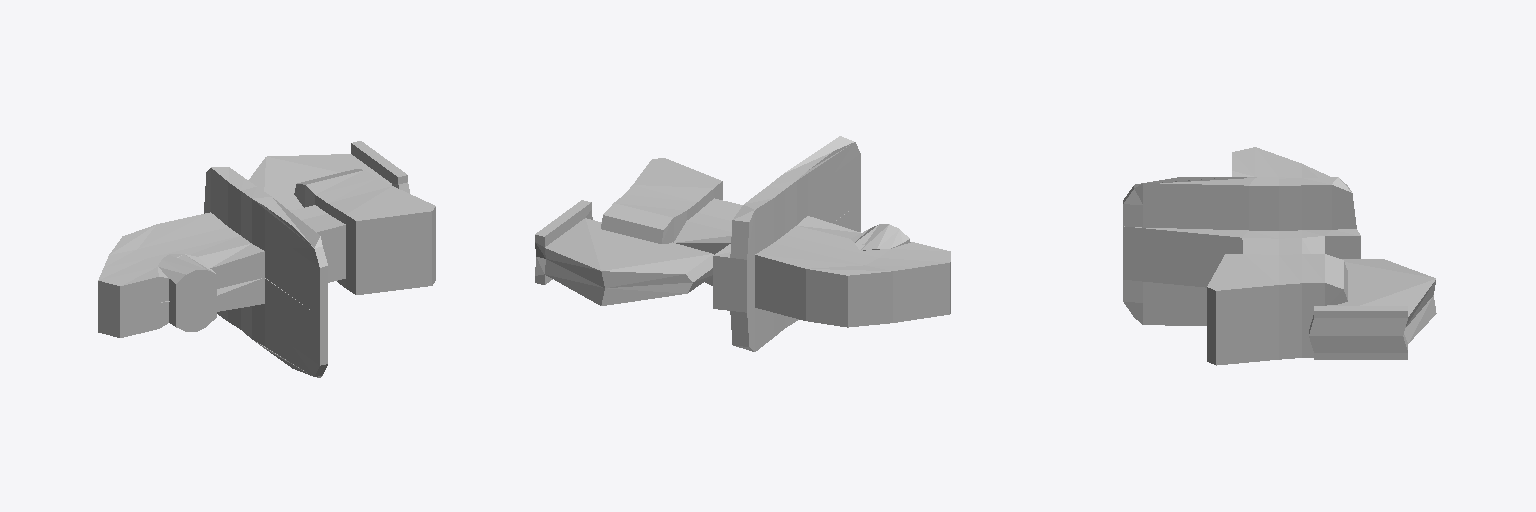
The model's file is thruster.obj.
3 views of the same model, side by side, from view 1: azimuth 30°, elevation 25°; view 2: azimuth 150°, elevation 25°; view 3: azimuth 270°, elevation 25° (orthographic).
Parts seen in each view (by area): view 1: Cabin_Plane.001_Windows.004; view 2: Cabin_Plane.001_Windows.004; view 3: Cabin_Plane.001_Windows.004.
Boxes of the visible parts, box(x1,y1,x2,y2) form: Cabin_Plane.001_Windows.004: box(98, 141, 435, 377); Cabin_Plane.001_Windows.004: box(535, 136, 950, 351); Cabin_Plane.001_Windows.004: box(1123, 147, 1436, 365).
Size of the model in its own units: 0.7503 by 0.3004 by 0.5981.